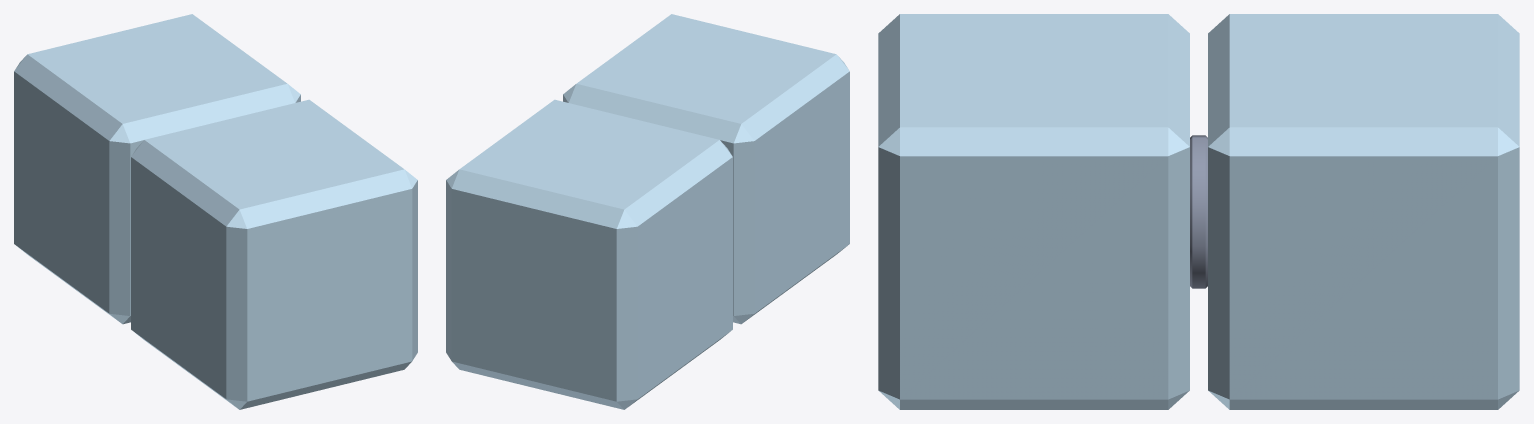
File: R4C_STRUT_SHORT_LOD1.glb
3 renders of one model, left to right at view 1: azimuth 30°, elevation 25°; view 2: azimuth 150°, elevation 25°; view 3: azimuth 270°, elevation 25°, orthographic. The views are drawn at different scales.
Visible parts, largest first — view 1: R4C_STRUT_SHORT_LOD1; view 2: R4C_STRUT_SHORT_LOD1; view 3: R4C_STRUT_SHORT_LOD1.
Boxes of the visible parts, x1,y1,x2,y2 form: R4C_STRUT_SHORT_LOD1: (14, 14, 417, 409); R4C_STRUT_SHORT_LOD1: (446, 14, 849, 409); R4C_STRUT_SHORT_LOD1: (878, 14, 1519, 409).
Bounding box in the file's own units: 0.52 × 0.52 × 1.07.
